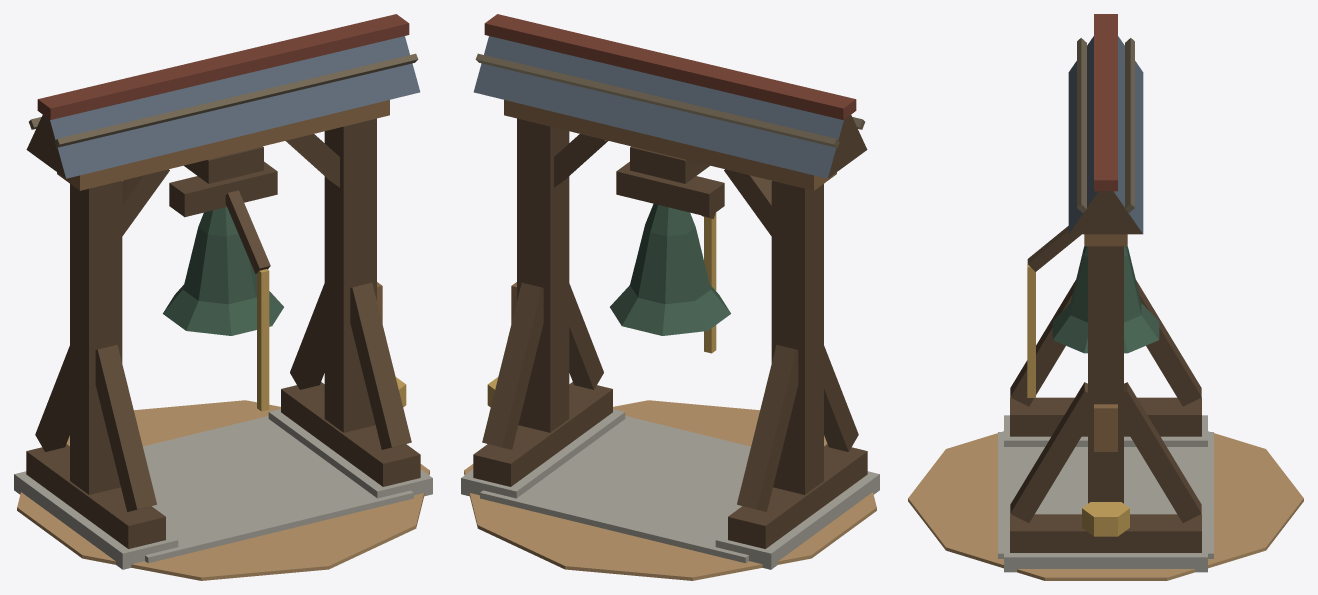
File: bell-post.glb
3 views of the same model, side by side, from view 1: azimuth 30°, elevation 25°; view 2: azimuth 150°, elevation 25°; view 3: azimuth 270°, elevation 25° (orthographic). The views are drawn at different scales.
Visible parts, largest first — view 1: Frame, Bell; view 2: Frame, Bell; view 3: Frame, Bell.
Boxes of the visible parts, x1=… form: Frame: x1=14, y1=14, x2=432, y2=580; Bell: x1=163, y1=161, x2=283, y2=411; Frame: x1=461, y1=14, x2=879, y2=580; Bell: x1=610, y1=161, x2=730, y2=353; Frame: x1=908, y1=14, x2=1303, y2=580; Bell: x1=1027, y1=226, x2=1159, y2=397.
Bounding box in the file's own units: 3.24 × 3.73 × 3.3.
Materials: 1 (1 with a texture image).
